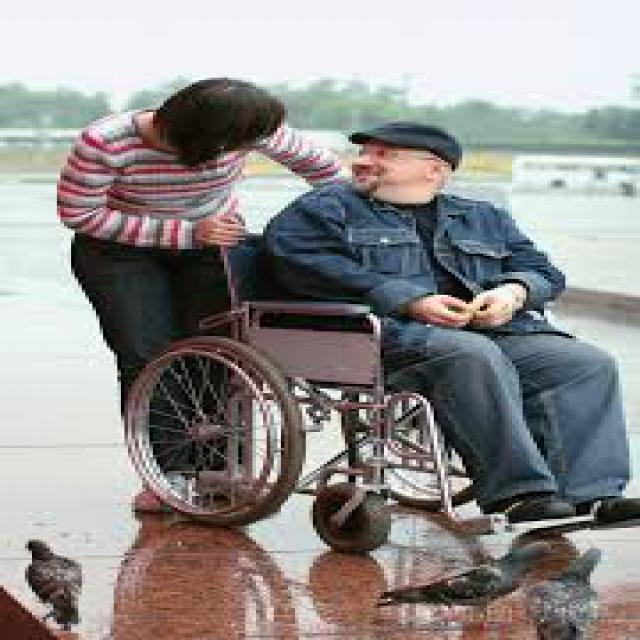wheelchairs: (124, 217, 636, 540)
